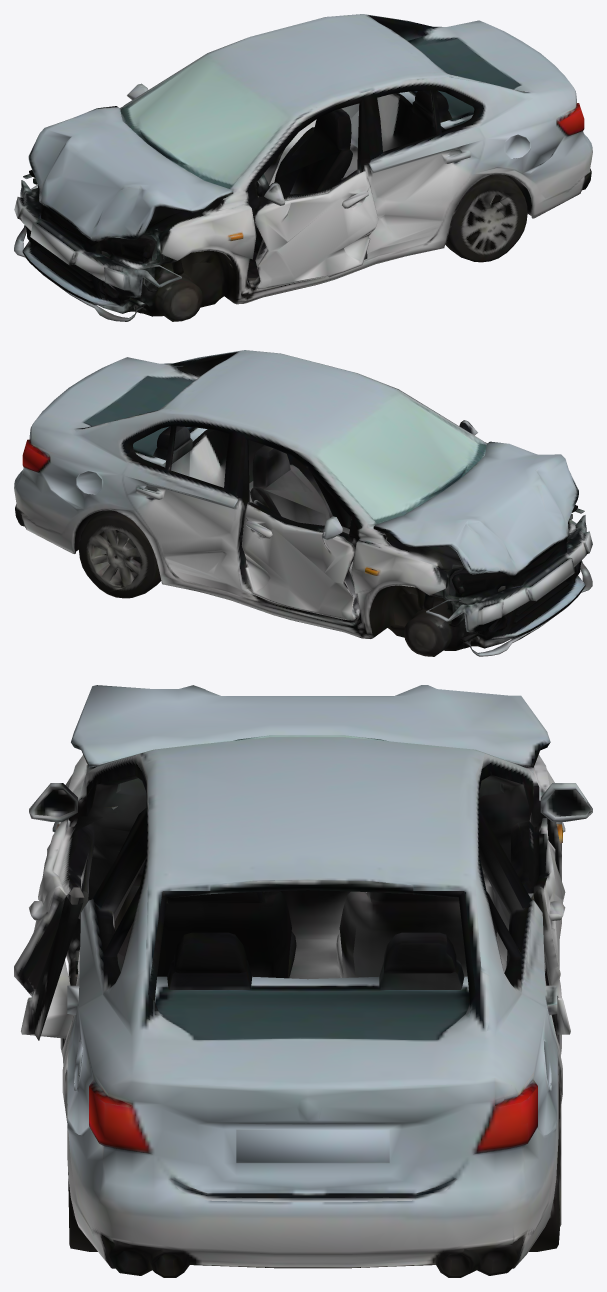
File: crashed_car_f2b577ae_v2.glb
3 views of the same model, one above another, from view 1: azimuth 30°, elevation 25°; view 2: azimuth 150°, elevation 25°; view 3: azimuth 270°, elevation 25° (orthographic). The views are drawn at different scales.
Visible parts, largest first — view 1: material; view 2: material; view 3: material.
Boxes of the visible parts, <box> form: material: <box>14,14,592,321</box>; material: <box>14,350,592,656</box>; material: <box>14,685,592,1277</box>.
Size of the model in its own units: 1.9 by 0.6757 by 0.9966.
Materials: 1 (1 with a texture image).
